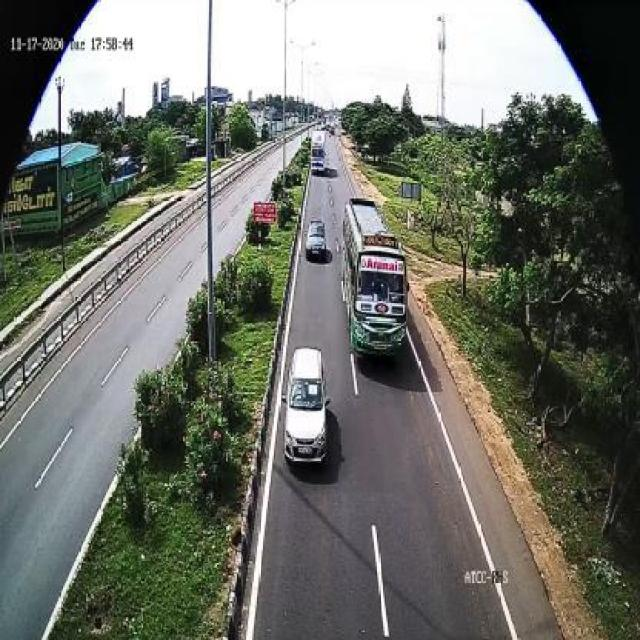car: (283, 342, 334, 476), (308, 210, 330, 264)
